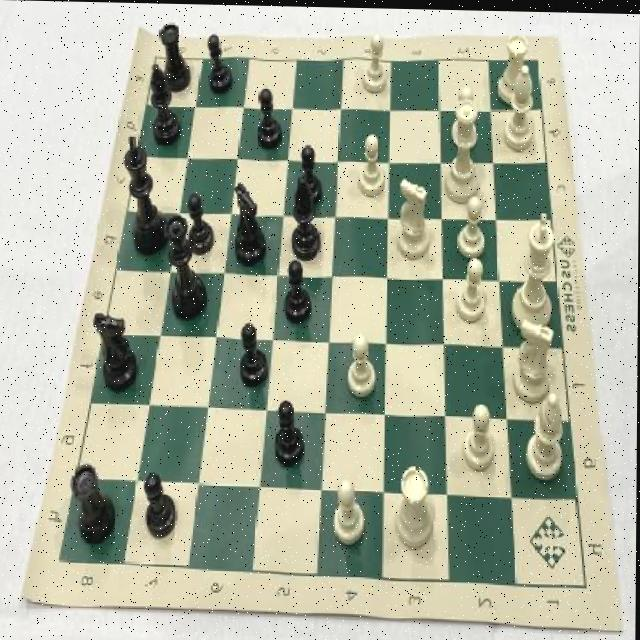bishop: (149, 63, 181, 146), (289, 173, 321, 256)
black-king: (122, 133, 168, 254), (92, 308, 138, 395), (231, 181, 270, 269)
black-knight: (273, 397, 307, 468), (144, 467, 177, 540), (283, 259, 316, 327), (238, 320, 269, 389), (296, 139, 324, 207), (188, 190, 216, 256), (256, 84, 284, 150), (206, 31, 234, 96)
black-pawn: (168, 214, 202, 321)
black-queen: (68, 458, 116, 547), (158, 20, 192, 96)
black-rook: (525, 388, 567, 479), (502, 59, 538, 151)
white-bishop: (511, 207, 558, 334)
white-king: (394, 174, 432, 259)
white-knight: (331, 477, 368, 546), (454, 252, 488, 323), (347, 325, 377, 399), (456, 193, 487, 259), (463, 403, 493, 468), (358, 131, 386, 197), (362, 31, 389, 94), (451, 82, 478, 145)
white-pawn: (442, 97, 485, 204)
white-queen: (394, 461, 436, 549), (496, 30, 528, 105)
